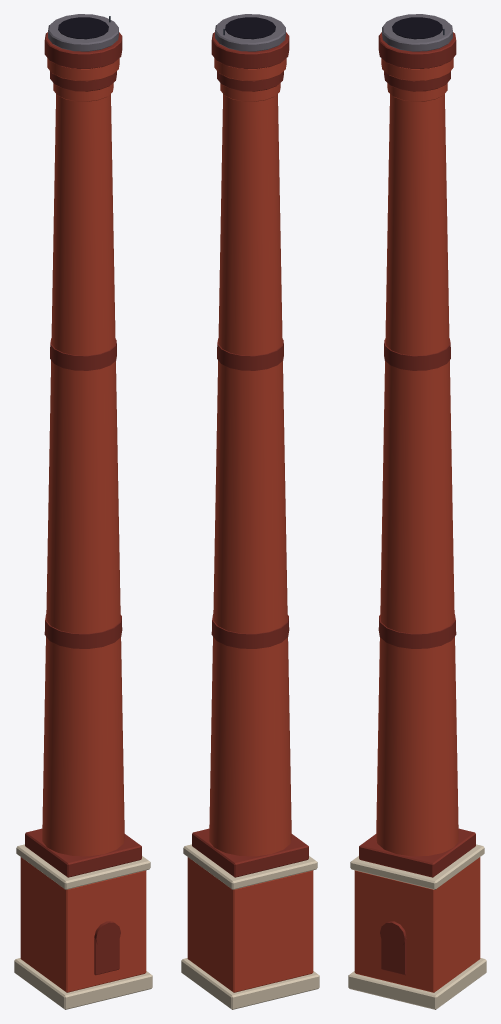
Rendered from smokestack.glb.
3 views of the same model, side by side, from view 1: azimuth 30°, elevation 25°; view 2: azimuth 210°, elevation 25°; view 3: azimuth 330°, elevation 25° (orthographic).
Parts seen in each view (by area): view 1: smokestack; view 2: smokestack; view 3: smokestack.
Part boxes in pixels (box(x1,y1,x2,y2)): smokestack: box(14, 14, 152, 1009); smokestack: box(181, 14, 319, 1009); smokestack: box(348, 14, 486, 1009).
Bounding box in the file's own units: 3.2 × 33 × 3.2.
Materials: 1 (1 with a texture image).
